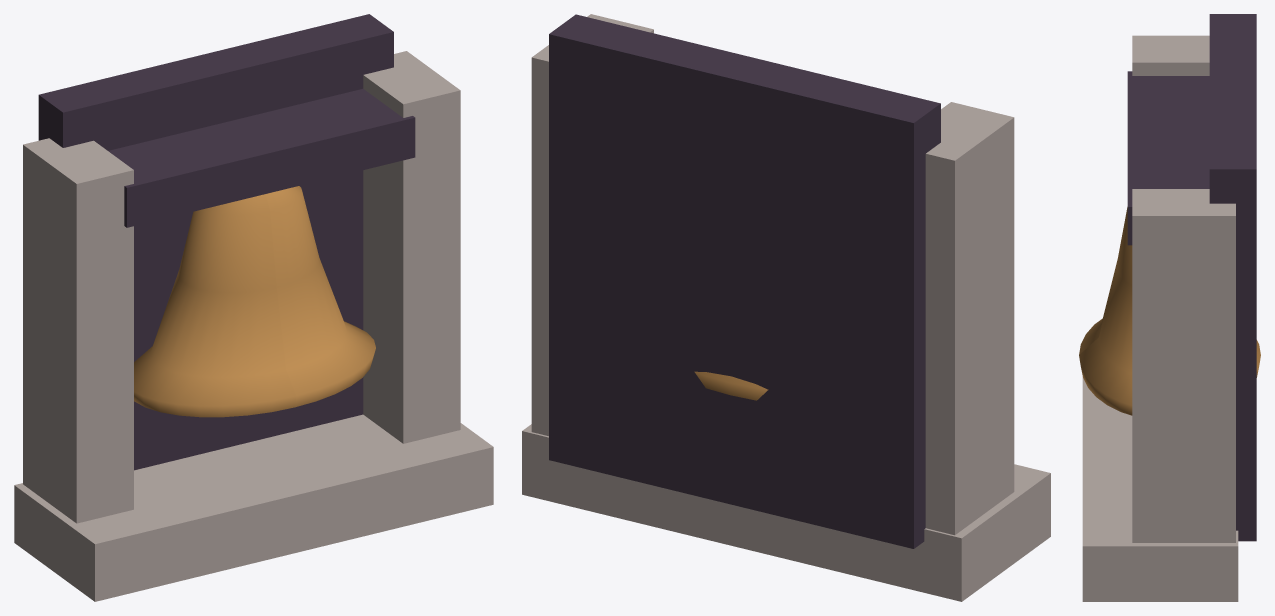
The model's file is clock-bronze-belfry.glb.
The picture shows the model from 3 angles, left to right: view 1: azimuth 30°, elevation 25°; view 2: azimuth 150°, elevation 25°; view 3: azimuth 270°, elevation 25°; orthographic projection. The views are drawn at different scales.
Parts seen in each view (by area): view 1: Belfry sill, Recessed bell shadow, Stone jamb, Flared bronze bell, Stone jamb.001, Beam; view 2: Recessed bell shadow, Stone jamb, Belfry sill, Stone jamb.001, Flared bronze bell; view 3: Stone jamb.001, Belfry sill, Recessed bell shadow, Beam, Flared bronze bell, Stone jamb.
Part boxes in pixels (x1=…): Belfry sill: x1=14, y1=414, x2=493, y2=601; Recessed bell shadow: x1=38, y1=14, x2=393, y2=470; Stone jamb: x1=23, y1=138, x2=133, y2=523; Flared bronze bell: x1=134, y1=186, x2=375, y2=417; Stone jamb.001: x1=363, y1=51, x2=460, y2=443; Beam: x1=108, y1=89, x2=415, y2=227; Recessed bell shadow: x1=549, y1=14, x2=940, y2=548; Stone jamb: x1=925, y1=102, x2=1014, y2=535; Belfry sill: x1=522, y1=424, x2=1050, y2=601; Stone jamb.001: x1=531, y1=14, x2=653, y2=436; Flared bronze bell: x1=694, y1=371, x2=768, y2=400; Stone jamb.001: x1=1132, y1=189, x2=1235, y2=542; Belfry sill: x1=1082, y1=377, x2=1238, y2=601; Recessed bell shadow: x1=1209, y1=14, x2=1256, y2=541; Beam: x1=1127, y1=71, x2=1209, y2=245; Flared bronze bell: x1=1079, y1=207, x2=1260, y2=415; Stone jamb: x1=1132, y1=35, x2=1209, y2=75.
Size of the model in its own units: 0.94 by 0.975 by 0.386.
